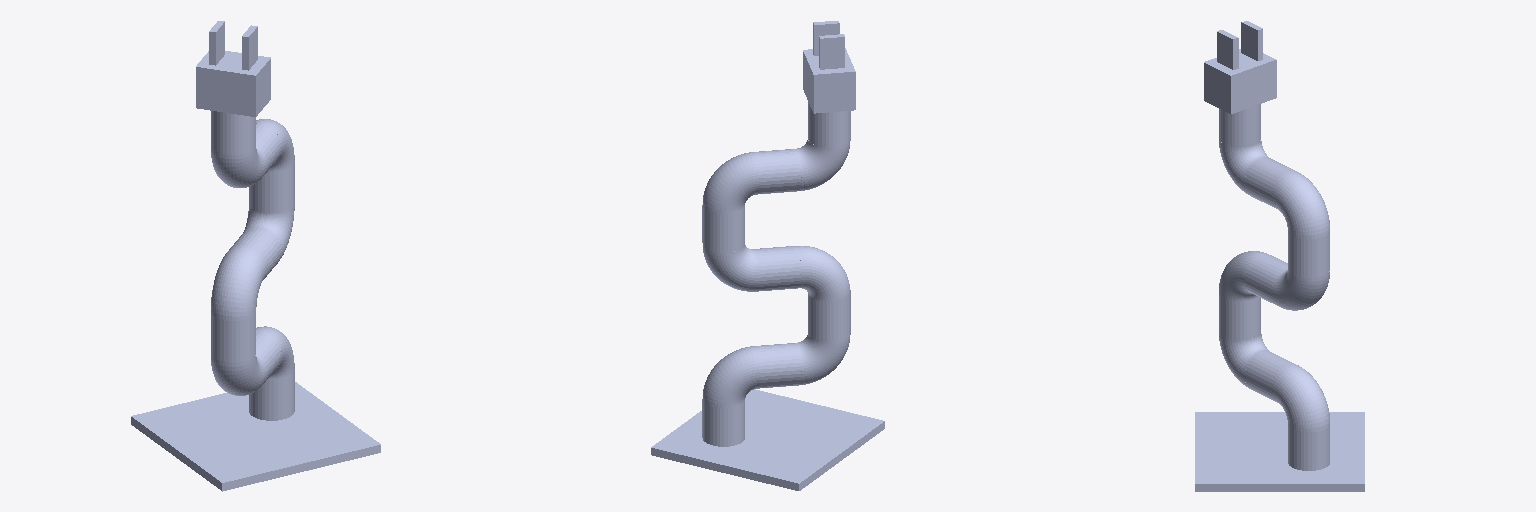
The robot description file, URDF, robot "arm":
<?xml version="1.0" encoding="utf-8"?>
<!-- This URDF was automatically created by SolidWorks to URDF Exporter! Originally created by [author] ([email redacted]) 
     Commit Version: 1.5.1-0-g916b5db  Build Version: 1.5.7152.31018
     For more information, please see http://wiki.ros.org/sw_urdf_exporter -->
<robot
  name="arm">
  <link
    name="base_link">
    <inertial>
      <origin
        xyz="0.0299669720529937 -0.0822769203263411 -0.0109155393278129"
        rpy="0 0 0" />
      <mass
        value="0.0536128315516283" />
      <inertia
        ixx="4.21997065454412E-05"
        ixy="4.88058986178293E-39"
        ixz="-5.78241158658936E-21"
        iyy="8.38147431375879E-05"
        iyz="2.12859934851484E-38"
        izz="4.21997065454412E-05" />
    </inertial>
    <visual>
      <origin
        xyz="0 0 0"
        rpy="0 0 0" />
      <geometry>
        <mesh
          filename="package://tesseract_support/urdf/test/meshes/base_link.STL" />
      </geometry>
      <material
        name="">
        <color
          rgba="0.792156862745098 0.819607843137255 0.933333333333333 1" />
      </material>
    </visual>
    <collision>
      <origin
        xyz="0 0 0"
        rpy="0 0 0" />
      <geometry>
        <mesh
          filename="package://tesseract_support/urdf/test/meshes/base_link.STL" />
      </geometry>
    </collision>
  </link>
  <link
    name="first">
    <inertial>
      <origin
        xyz="5.20417042793042E-17 -0.0168090857412277 -0.0153678670286469"
        rpy="0 0 0" />
      <mass
        value="0.00786909844959806" />
      <inertia
        ixx="1.05977495132376E-06"
        ixy="-1.05879118406788E-22"
        ixz="-2.97785020519088E-23"
        iyy="1.08043445593965E-06"
        iyz="1.10987669635039E-07"
        izz="1.02789786379305E-06" />
    </inertial>
    <visual>
      <origin
        xyz="0 0 0"
        rpy="0 0 0" />
      <geometry>
        <mesh
          filename="package://tesseract_support/urdf/test/meshes/first.STL" />
      </geometry>
      <material
        name="">
        <color
          rgba="0.792156862745098 0.819607843137255 0.933333333333333 1" />
      </material>
    </visual>
    <collision>
      <origin
        xyz="0 0 0"
        rpy="0 0 0" />
      <geometry>
        <mesh
          filename="package://tesseract_support/urdf/test/meshes/first.STL" />
      </geometry>
    </collision>
  </link>
  <joint
    name="first"
    type="continuous">
    <origin
      xyz="0.048479 0.026841 -0.024132"
      rpy="0 0 -0.8654" />
    <parent
      link="base_link" />
    <child
      link="first" />
    <axis
      xyz="0 0 1" />
  </joint>
  <link
    name="second">
    <inertial>
      <origin
        xyz="-6.76542155630955E-17 0.0129047951693301 -0.0384236925590345"
        rpy="0 0 0" />
      <mass
        value="0.0157381968991961" />
      <inertia
        ixx="2.11954990264751E-06"
        ixy="2.11758236813575E-22"
        ixz="-4.5665165497789E-24"
        iyy="2.1083323197327E-06"
        iyz="2.59889342527268E-23"
        izz="2.1083323197327E-06" />
    </inertial>
    <visual>
      <origin
        xyz="0 0 0"
        rpy="0 0 0" />
      <geometry>
        <mesh
          filename="package://tesseract_support/urdf/test/meshes/second.STL" />
      </geometry>
      <material
        name="">
        <color
          rgba="0.792156862745098 0.819607843137255 0.933333333333333 1" />
      </material>
    </visual>
    <collision>
      <origin
        xyz="0 0 0"
        rpy="0 0 0" />
      <geometry>
        <mesh
          filename="package://tesseract_support/urdf/test/meshes/second.STL" />
      </geometry>
    </collision>
  </link>
  <joint
    name="second"
    type="continuous">
    <origin
      xyz="0 -0.03996 -0.012906"
      rpy="-3.1416 0 0" />
    <parent
      link="first" />
    <child
      link="second" />
    <axis
      xyz="0 1 0" />
  </joint>
  <link
    name="third">
    <inertial>
      <origin
        xyz="4.49293380277993E-16 -0.0384236925590342 0.0303244184662838"
        rpy="0 0 0" />
      <mass
        value="0.0157381968991961" />
      <inertia
        ixx="2.11954990264751E-06"
        ixy="4.30684994025578E-22"
        ixz="2.11758236813575E-22"
        iyy="2.1083323197327E-06"
        iyz="-6.57581199563027E-22"
        izz="2.1083323197327E-06" />
    </inertial>
    <visual>
      <origin
        xyz="0 0 0"
        rpy="0 0 0" />
      <geometry>
        <mesh
          filename="package://tesseract_support/urdf/test/meshes/third.STL" />
      </geometry>
      <material
        name="">
        <color
          rgba="0.792156862745098 0.819607843137255 0.933333333333333 1" />
      </material>
    </visual>
    <collision>
      <origin
        xyz="0 0 0"
        rpy="0 0 0" />
      <geometry>
        <mesh
          filename="package://tesseract_support/urdf/test/meshes/third.STL" />
      </geometry>
    </collision>
  </link>
  <joint
    name="third"
    type="continuous">
    <origin
      xyz="0 0 -0.0625"
      rpy="1.5708 0 0" />
    <parent
      link="second" />
    <child
      link="third" />
    <axis
      xyz="0 0 1" />
  </joint>
  <link
    name="fourth">
    <inertial>
      <origin
        xyz="1.73472347597681E-18 0.0200784877283646 -0.0168090857412276"
        rpy="0 0 0" />
      <mass
        value="0.00786909844959807" />
      <inertia
        ixx="1.05977495132376E-06"
        ixy="0"
        ixz="-1.32348898008494E-23"
        iyy="1.02789786379305E-06"
        iyz="1.10987669635039E-07"
        izz="1.08043445593965E-06" />
    </inertial>
    <visual>
      <origin
        xyz="0 0 0"
        rpy="0 0 0" />
      <geometry>
        <mesh
          filename="package://tesseract_support/urdf/test/meshes/fourth.STL" />
      </geometry>
      <material
        name="">
        <color
          rgba="0.792156862745098 0.819607843137255 0.933333333333333 1" />
      </material>
    </visual>
    <collision>
      <origin
        xyz="0 0 0"
        rpy="0 0 0" />
      <geometry>
        <mesh
          filename="package://tesseract_support/urdf/test/meshes/fourth.STL" />
      </geometry>
    </collision>
  </link>
  <joint
    name="fourth"
    type="continuous">
    <origin
      xyz="0 -0.0625 0"
      rpy="-1.5708 0 0" />
    <parent
      link="third" />
    <child
      link="fourth" />
    <axis
      xyz="0 1 0" />
  </joint>
  <link
    name="end_effector">
    <inertial>
      <origin
        xyz="-4.16333634234434E-17 0.0147741508524035 -9.71445146547012E-17"
        rpy="0 0 0" />
      <mass
        value="0.0241768252295753" />
      <inertia
        ixx="3.48343363903212E-06"
        ixy="-5.31956330610258E-22"
        ixz="-1.05879118406788E-22"
        iyy="3.63688903717576E-06"
        iyz="-5.52354749241335E-21"
        izz="4.75198363903212E-06" />
    </inertial>
    <visual>
      <origin
        xyz="0 0 0"
        rpy="0 0 0" />
      <geometry>
        <mesh
          filename="package://tesseract_support/urdf/test/meshes/end_effector.STL" />
      </geometry>
      <material
        name="">
        <color
          rgba="0.792156862745098 0.819607843137255 0.933333333333333 1" />
      </material>
    </visual>
    <collision>
      <origin
        xyz="0 0 0"
        rpy="0 0 0" />
      <geometry>
        <mesh
          filename="package://tesseract_support/urdf/test/meshes/end_effector.STL" />
      </geometry>
    </collision>
  </link>
  <joint
    name="end_effector"
    type="continuous">
    <origin
      xyz="0 0.02254 -0.04375"
      rpy="-1.5708 0 3.1416" />
    <parent
      link="fourth" />
    <child
      link="end_effector" />
    <axis
      xyz="0 1 0" />
  </joint>
</robot>

--- Facts derived from the render (not from the file) ---
Views: 3 orthographic renders of the robot side by side, from view 1: azimuth 30°, elevation 25°; view 2: azimuth 150°, elevation 25°; view 3: azimuth 270°, elevation 25°.
Model arm with 6 links and 5 joints (5 continuous), rooted at base_link, posed every joint at zero.
Visible links, largest first — view 1: base_link, second, end_effector, third, fourth, first; view 2: base_link, third, second, first, end_effector, fourth; view 3: base_link, third, second, end_effector, first, fourth.
Boxes of the visible links, box(x1,y1,x2,y2) form: base_link: box(131, 371, 380, 491); second: box(211, 227, 281, 395); end_effector: box(196, 21, 270, 116); third: box(243, 119, 294, 257); fourth: box(211, 111, 266, 187); first: box(256, 326, 294, 382); base_link: box(651, 389, 884, 490); third: box(702, 149, 801, 291); second: box(755, 246, 850, 384); first: box(703, 343, 801, 407); end_effector: box(803, 21, 855, 113); fourth: box(797, 102, 850, 190); base_link: box(1195, 412, 1364, 491); third: box(1245, 157, 1329, 310); second: box(1219, 251, 1287, 388); end_effector: box(1204, 21, 1276, 113); first: box(1245, 350, 1329, 431); fourth: box(1219, 104, 1268, 194).
Bounding box of the posed robot: 0.1 × 0.1 × 0.2625 m (x, y, z).
6 mesh visuals loaded from 6 distinct referenced files (6 binary STL).